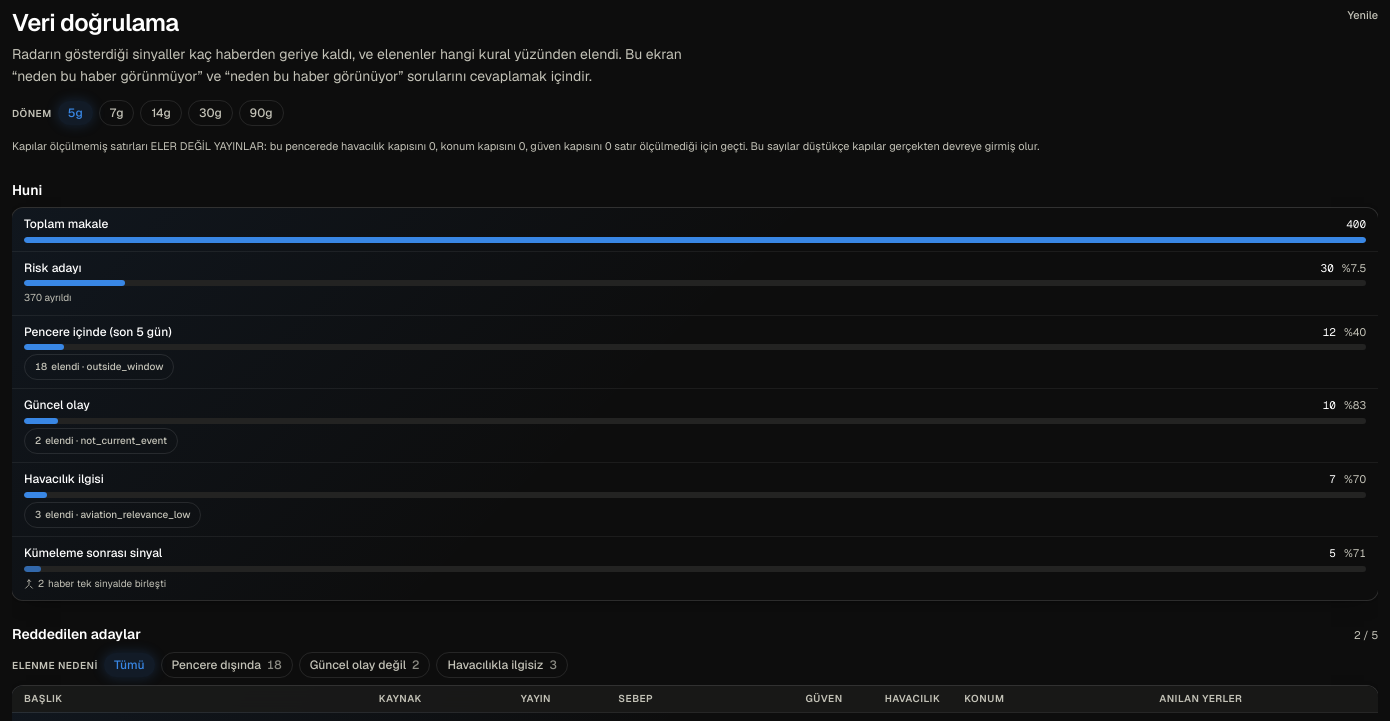
Test case: RiskVerificationClient › stamps a stale table with the table's own last success, not the funnel's
The image size is (1390, 721).
Click the button "Yenile" at {"x": 1363, "y": 15}, box [1348,6,1378,23]
(page scrolled)
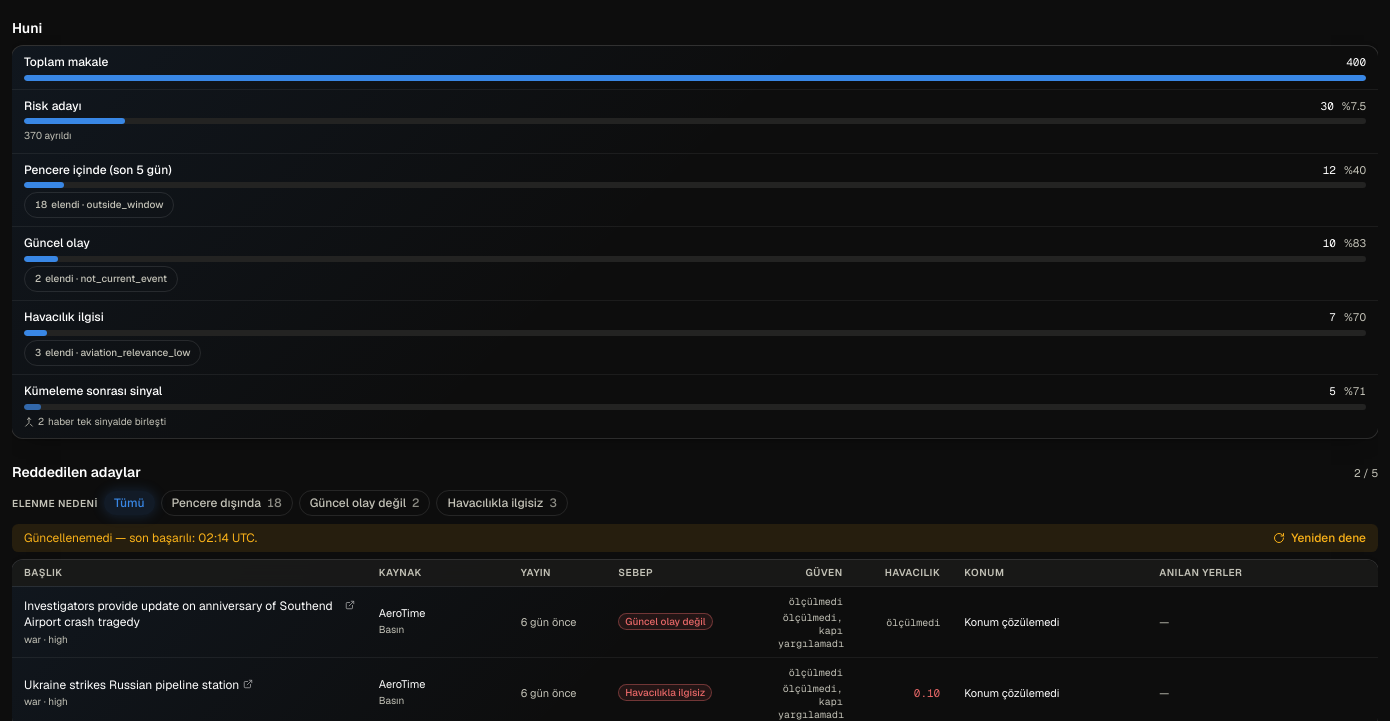
Check: the text "Southend Airport crash tragedy" is shown, box [24,598,333,630]
Check: the text "Güncellenemedi — son başarılı: 02:14 UTC." is shown, box [24,530,257,546]
